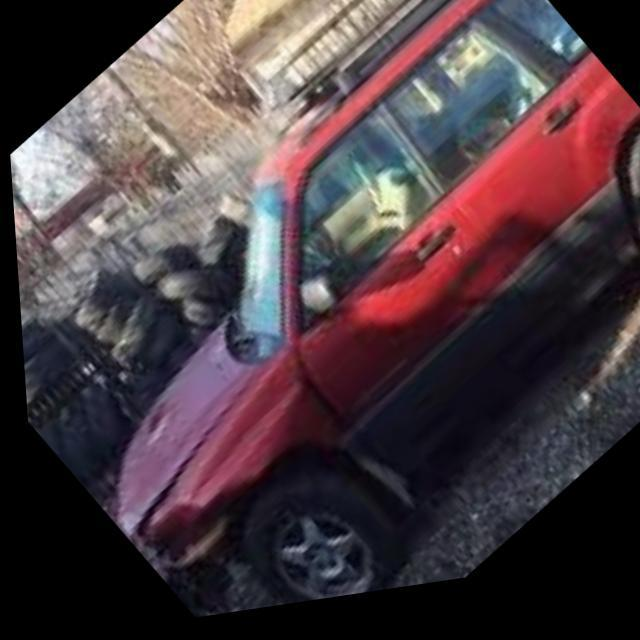dent: (112, 366, 409, 622)
